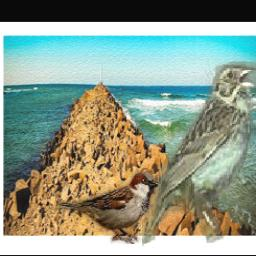Sparrow: (142, 54, 256, 251), (55, 171, 158, 244)
